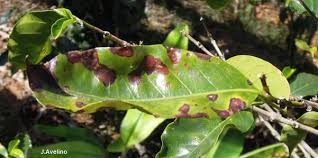ojo de gallo: (47, 56, 248, 111)
